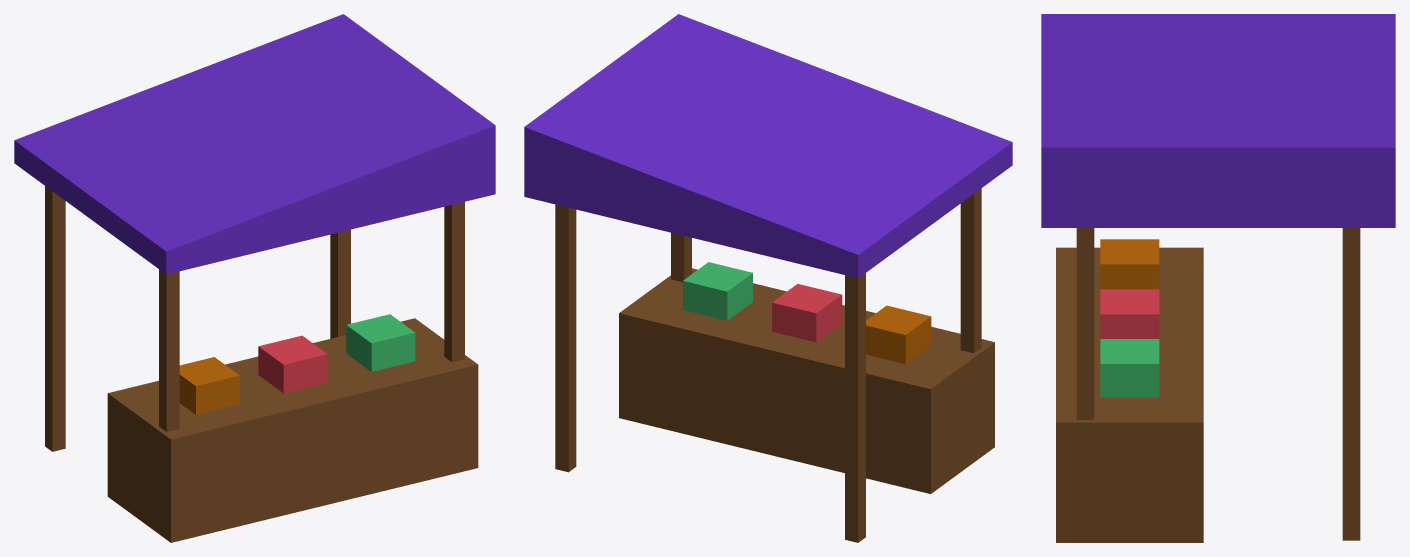
File: market_stall_violet.glb
The picture shows the model from 3 angles, left to right: view 1: azimuth 30°, elevation 25°; view 2: azimuth 150°, elevation 25°; view 3: azimuth 270°, elevation 25°; orthographic projection. The views are drawn at different scales.
Parts seen in each view (by area): view 1: model; view 2: model; view 3: model.
Part boxes in pixels (<box>): model: <box>14,14,495,542</box>; model: <box>524,14,1012,542</box>; model: <box>1041,14,1395,542</box>.
Size of the model in its own units: 3 by 3 by 2.4.
